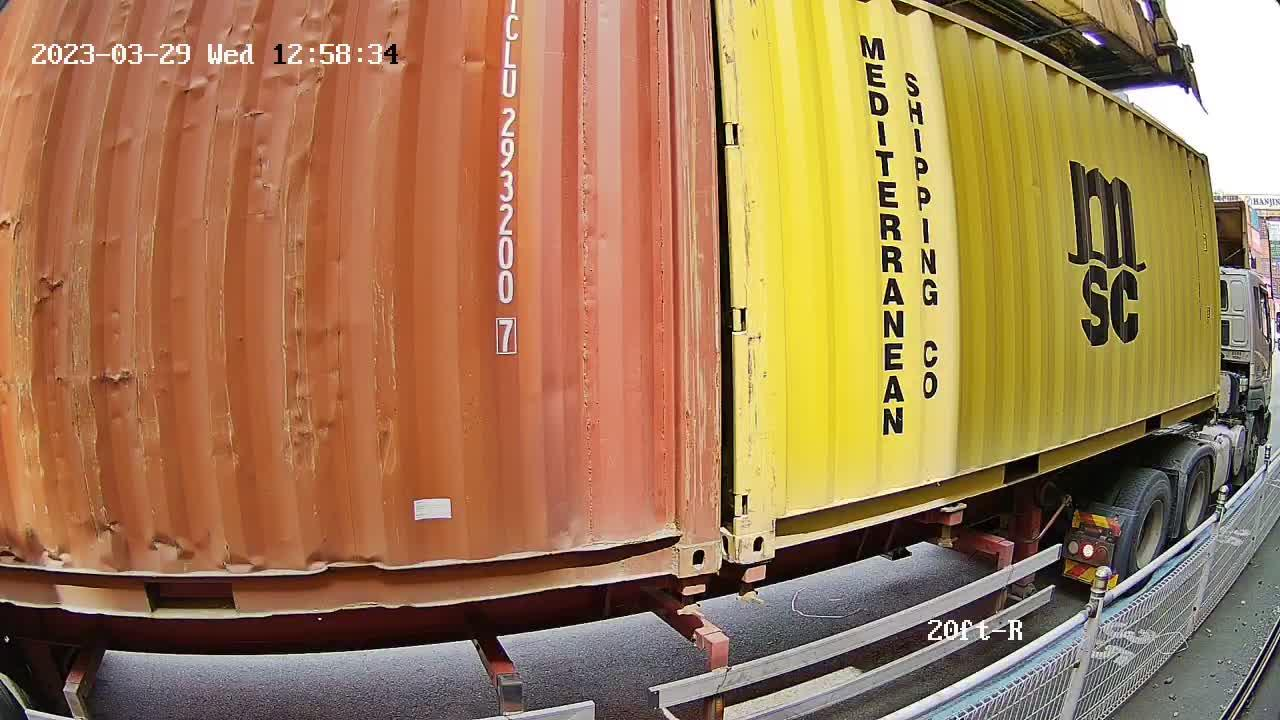Cone: (729, 560, 773, 613), (671, 573, 716, 623)
Hole_L: (736, 484, 801, 566)
Hole_R: (638, 497, 720, 579)
Tire: (1124, 473, 1172, 591), (1179, 456, 1214, 544)
